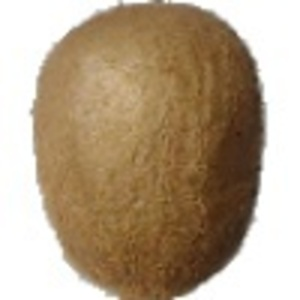kiwi: (30, 1, 268, 300)
